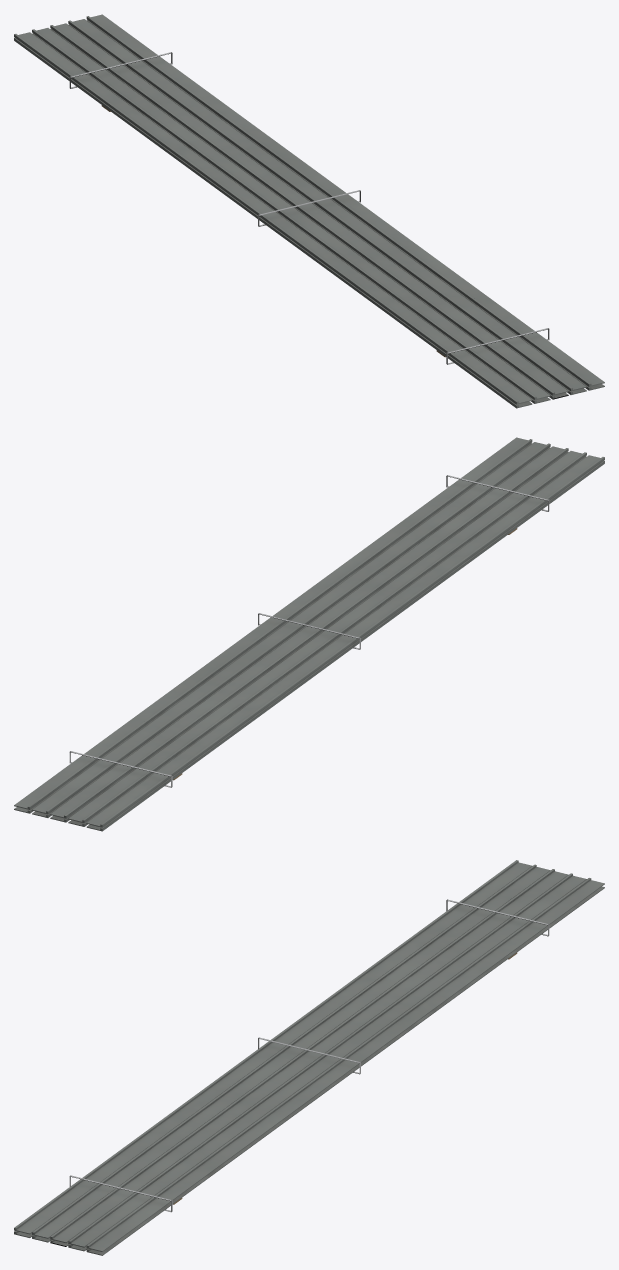
Rendered from ProfileBundle.fbx.
3 renders of one model, top to bottom at view 1: azimuth 30°, elevation 25°; view 2: azimuth 150°, elevation 25°; view 3: azimuth 330°, elevation 25°, orthographic.
Parts seen in each view (by area): view 1: ProfileBundle_LOD0; view 2: ProfileBundle_LOD0; view 3: ProfileBundle_LOD0.
Boxes of the visible parts, x1=… form: ProfileBundle_LOD0: x1=14, y1=14, x2=604, y2=408; ProfileBundle_LOD0: x1=14, y1=437, x2=604, y2=831; ProfileBundle_LOD0: x1=14, y1=860, x2=604, y2=1255.
Size of what is drawn, in the model's own units: 1.4 by 0.265 by 12.
Materials: 1 (1 with a texture image).
